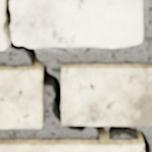brick: (61, 64, 151, 125), (0, 66, 42, 128), (0, 140, 142, 151)
broken_brick: (12, 0, 143, 48), (0, 0, 8, 50)
crack: (1, 0, 151, 151)
